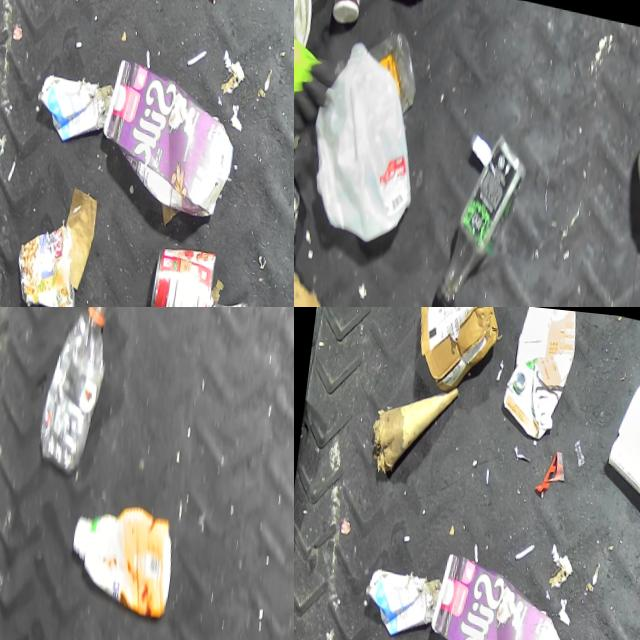can: (12, 212, 84, 307), (146, 232, 217, 307), (196, 285, 260, 307)
milk_jug: (299, 27, 429, 251)
non_white_jug: (94, 51, 240, 222), (422, 544, 567, 640), (498, 307, 578, 438)
plastic_bottle: (430, 118, 529, 307), (34, 307, 116, 474)
